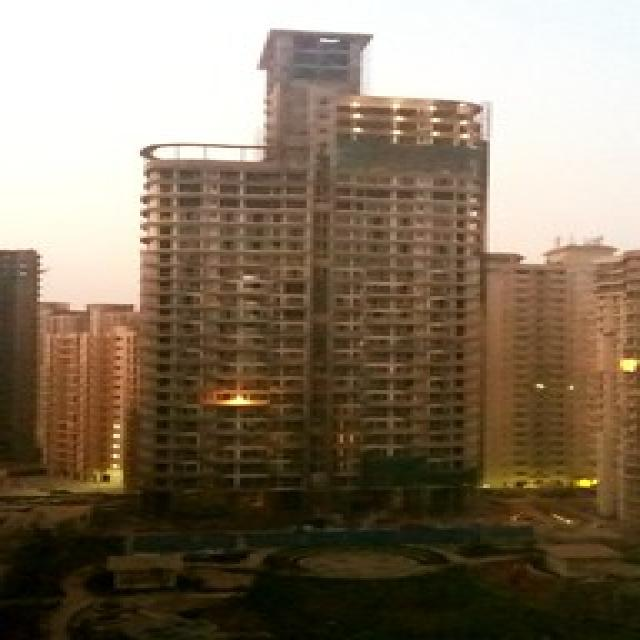building: (125, 18, 498, 528)
